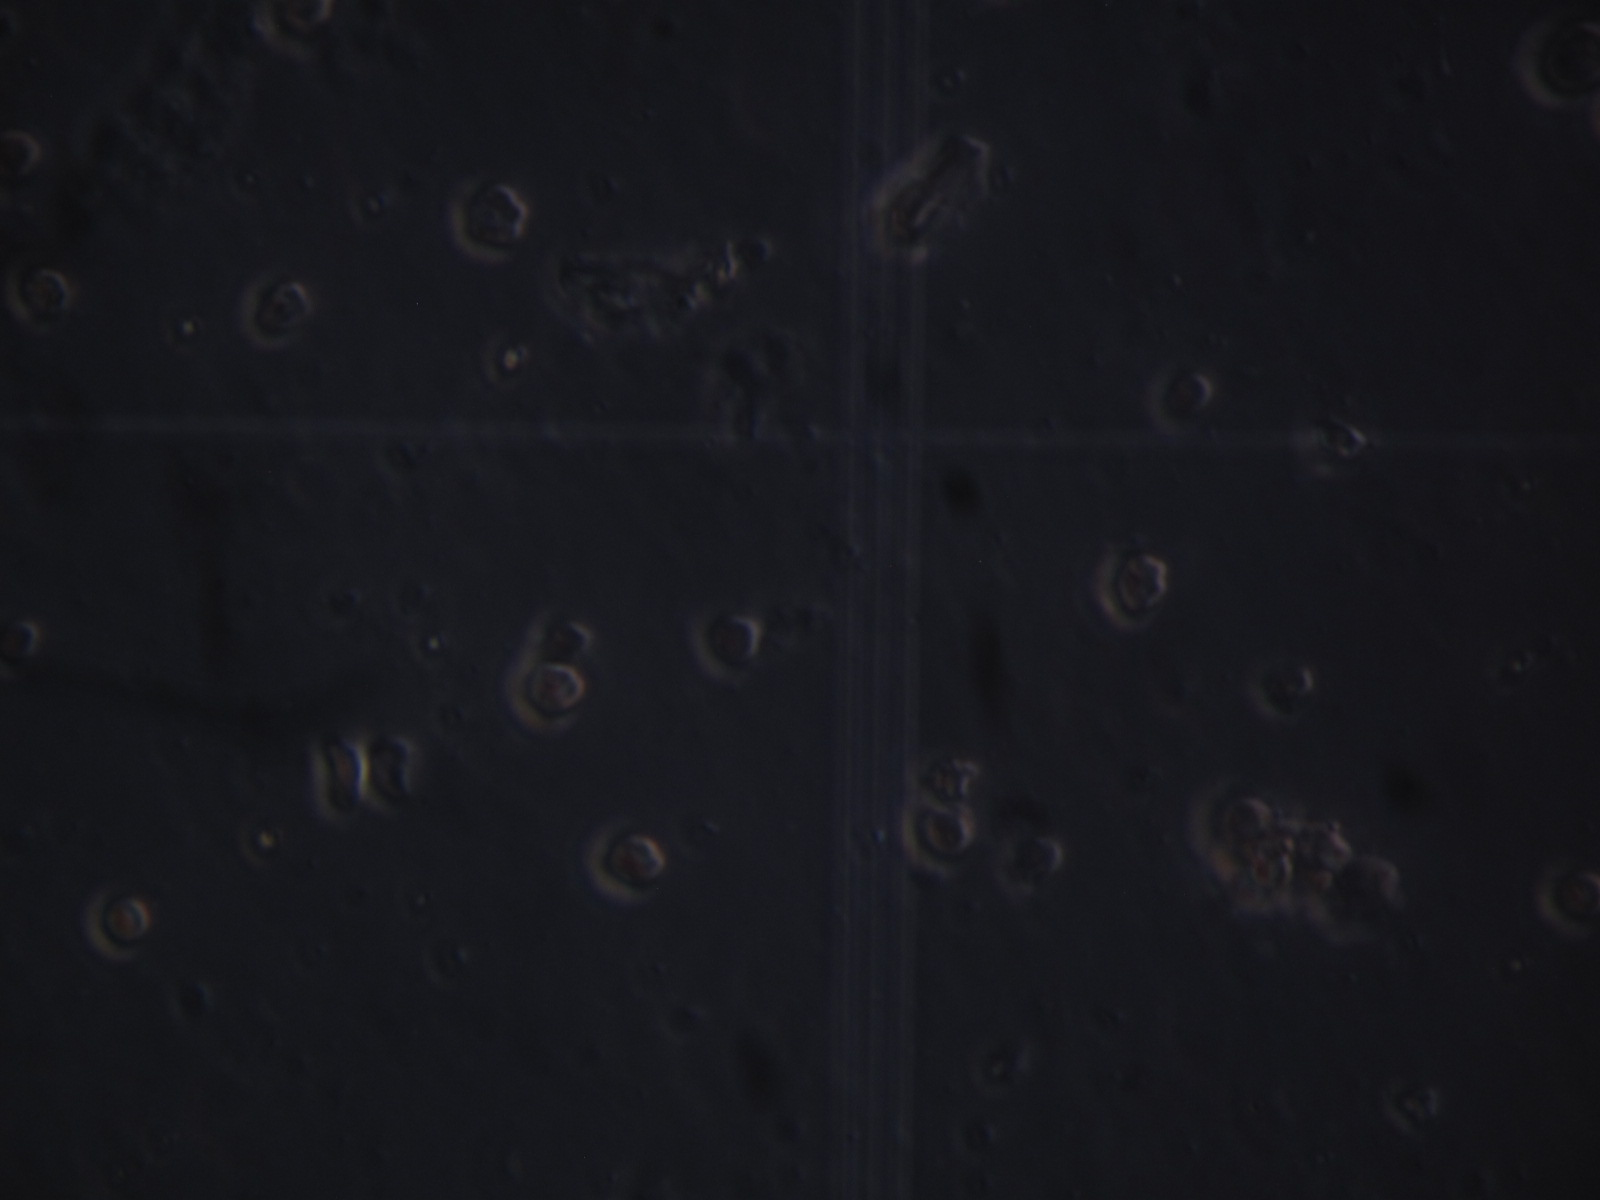hemo: (446, 176, 530, 263), (689, 603, 771, 689), (1094, 546, 1170, 635), (897, 795, 976, 881), (232, 271, 311, 350), (505, 659, 591, 731), (586, 829, 666, 904), (1145, 362, 1220, 436), (10, 261, 79, 337), (362, 731, 420, 819), (251, 1, 336, 61), (84, 885, 150, 962), (312, 731, 367, 821), (997, 829, 1066, 899), (524, 603, 596, 669), (1254, 655, 1314, 725)
